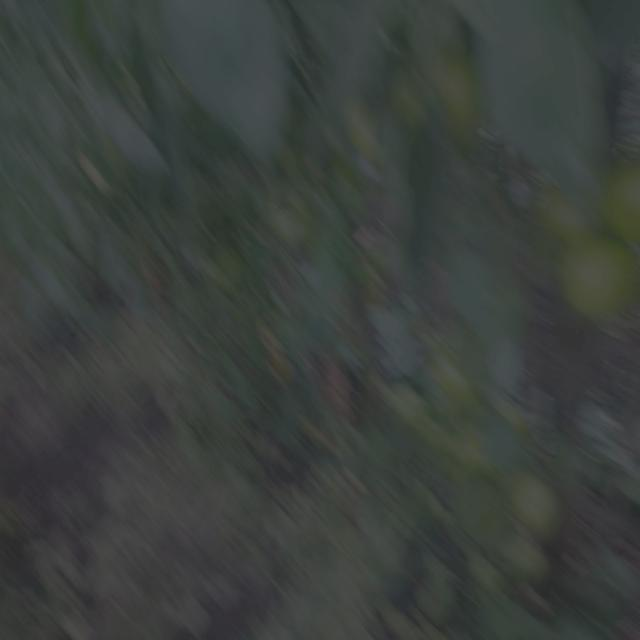tomato: (559, 231, 640, 321), (610, 159, 640, 239), (442, 62, 472, 133)
